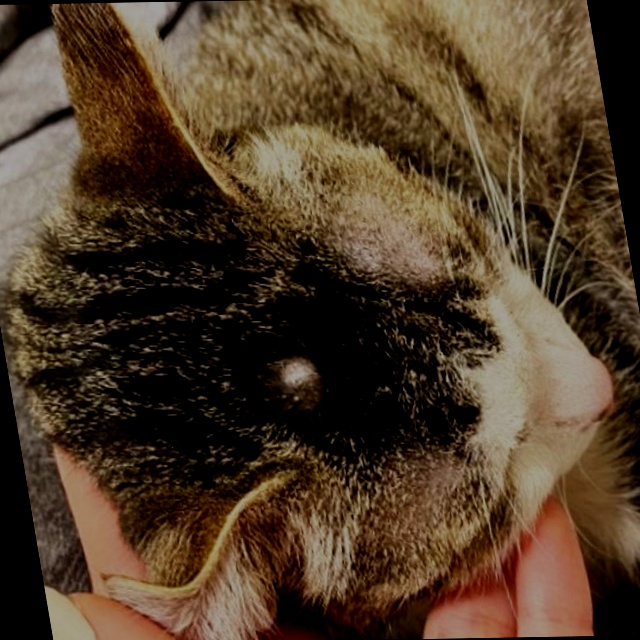lump_and_bump: (274, 347, 330, 399)
